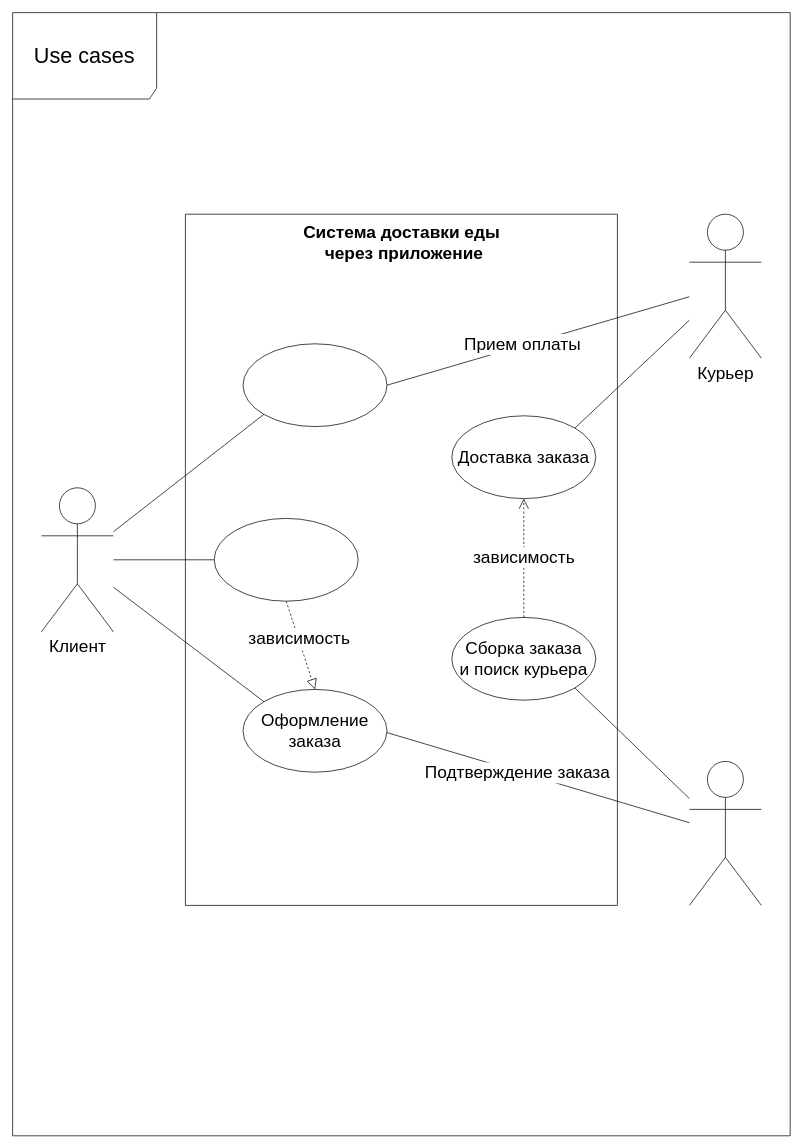
Image size: 806x1148. Some labels were removed from this diagram. The shapes that lost their labels are listed below. From the top down, each one's centre as x and y in pixels, then its label:
At pixel 314 385: "Оплата заказа".
At pixel 285 559: "Выбор блюд".
At pixel 725 833: "Приложение для доставки еды".
